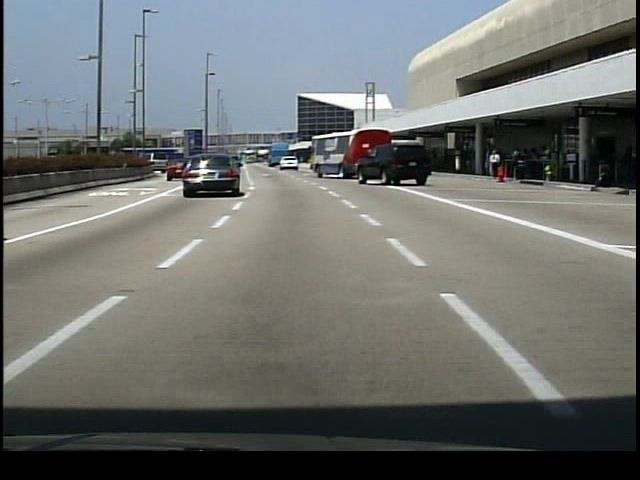person: (486, 147, 502, 182)
